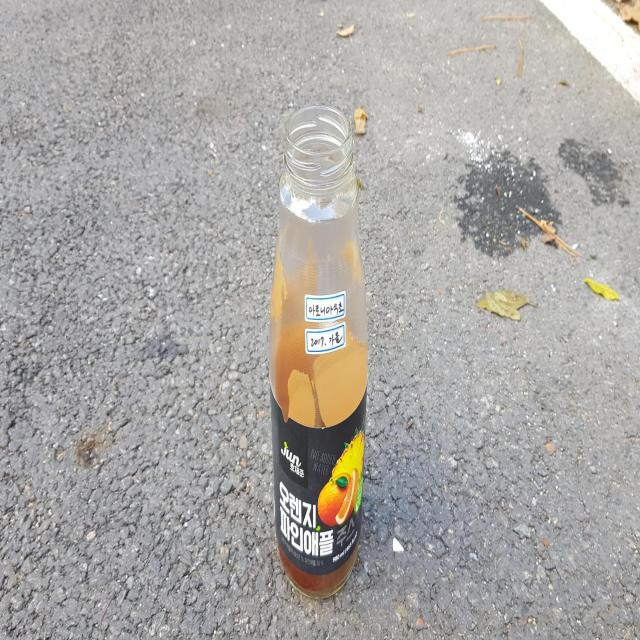glass: (269, 106, 368, 598)
